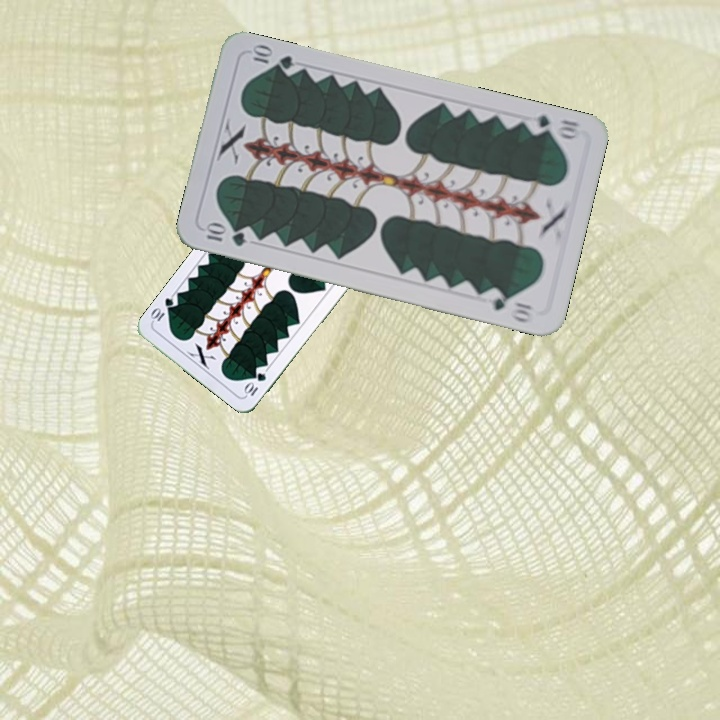G10: (523, 110, 583, 142), (200, 221, 249, 249), (240, 368, 269, 399)
